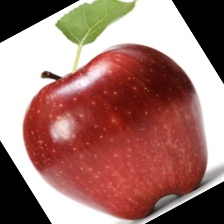apple: (2, 21, 180, 161)
